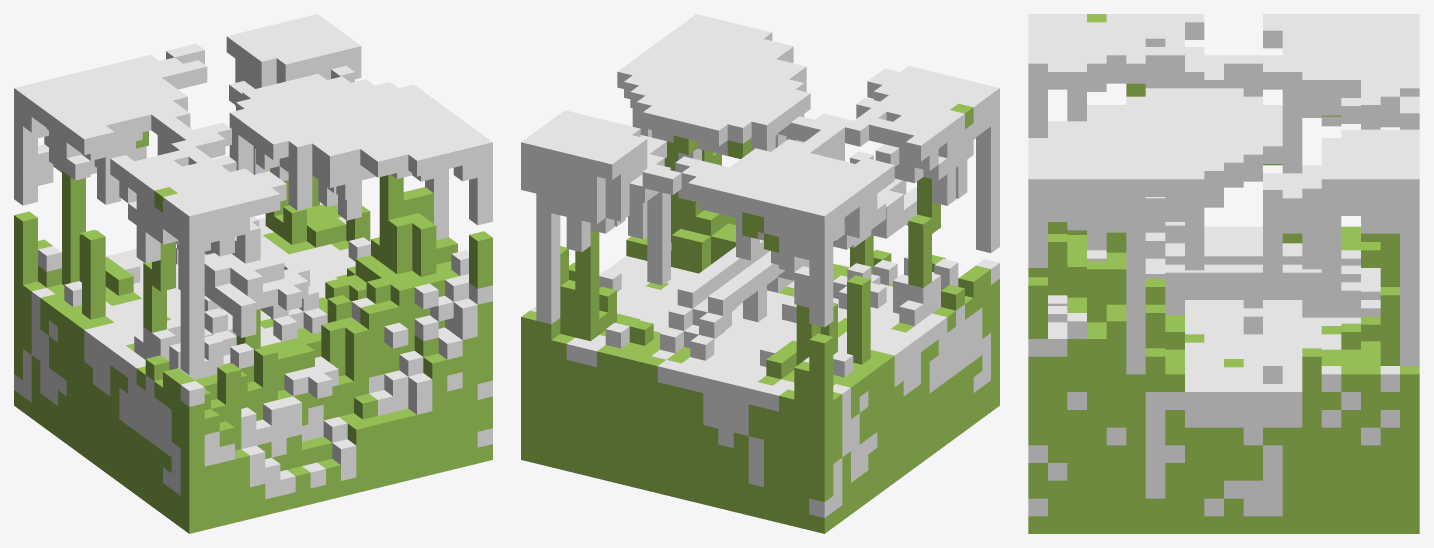
Rendered from test centre cube global.gltf.
3 views of the same model, side by side, from view 1: azimuth 30°, elevation 25°; view 2: azimuth 150°, elevation 25°; view 3: azimuth 270°, elevation 25° (orthographic). The views are drawn at different scales.
Visible parts, largest first — view 1: no part large enough to name; view 2: no part large enough to name; view 3: o1622, o1636, o1647, o2771, o2812, o3682, o1097, o1099, o1196, o1212, o1648, o1804 (+70 smaller).
Boxes of the visible parts, <box> form: o1622: <box>1145,278,1165,304</box>; o1636: <box>1145,304,1165,330</box>; o1647: <box>1145,348,1165,374</box>; o2771: <box>1282,63,1302,89</box>; o2812: <box>1282,264,1302,290</box>; o3682: <box>1145,232,1165,258</box>; o1097: <box>1321,366,1341,391</box>; o1099: <box>1321,171,1341,196</box>; o1196: <box>1282,190,1302,215</box>; o1212: <box>1282,384,1302,409</box>; o1648: <box>1145,171,1165,196</box>; o1804: <box>1106,261,1126,286</box>.
Size of the model in its own units: 20 by 20 by 20.
